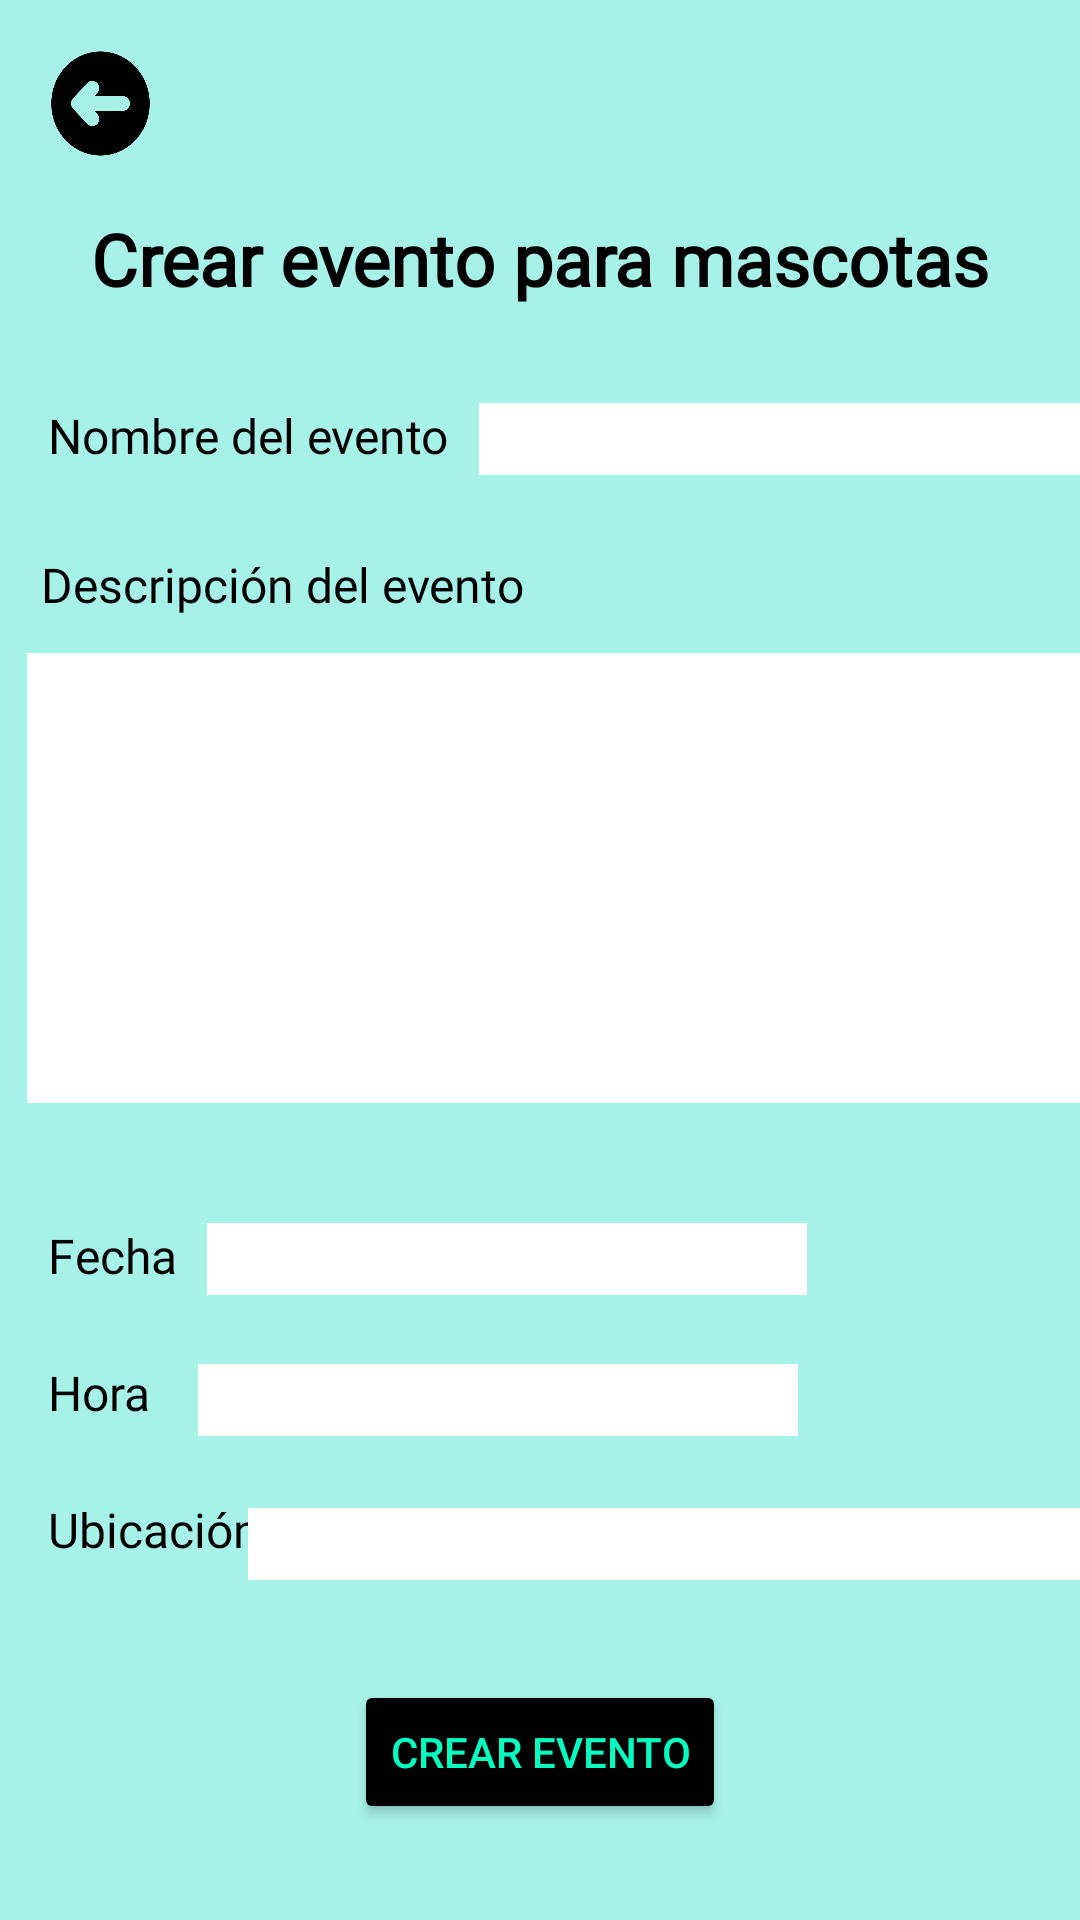

Where to tap for icons on this 1080x1920 app screen, as point (x, y):
flechaizquierda: point (100, 103)
